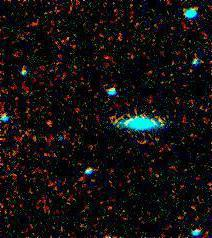star: (35, 107, 65, 137)
